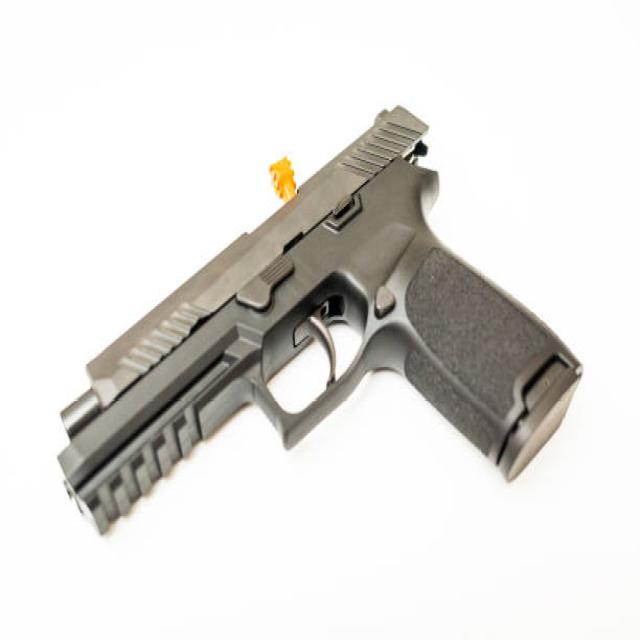pistol: (49, 92, 587, 548)
